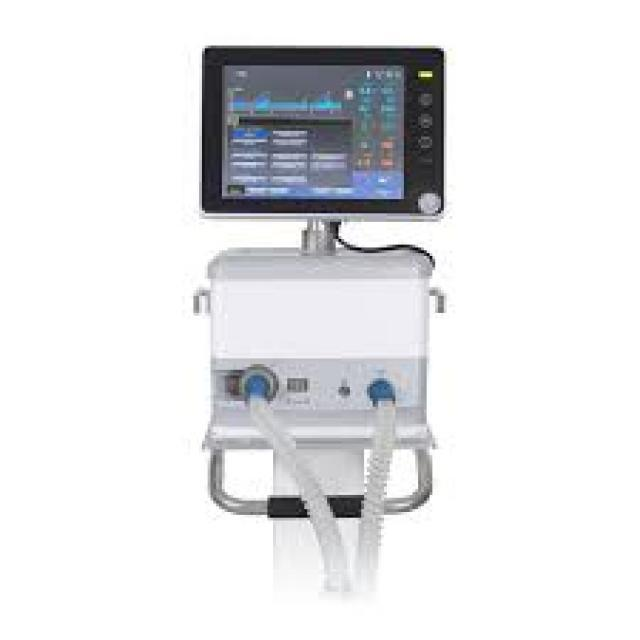ventilator: (137, 32, 506, 612)
